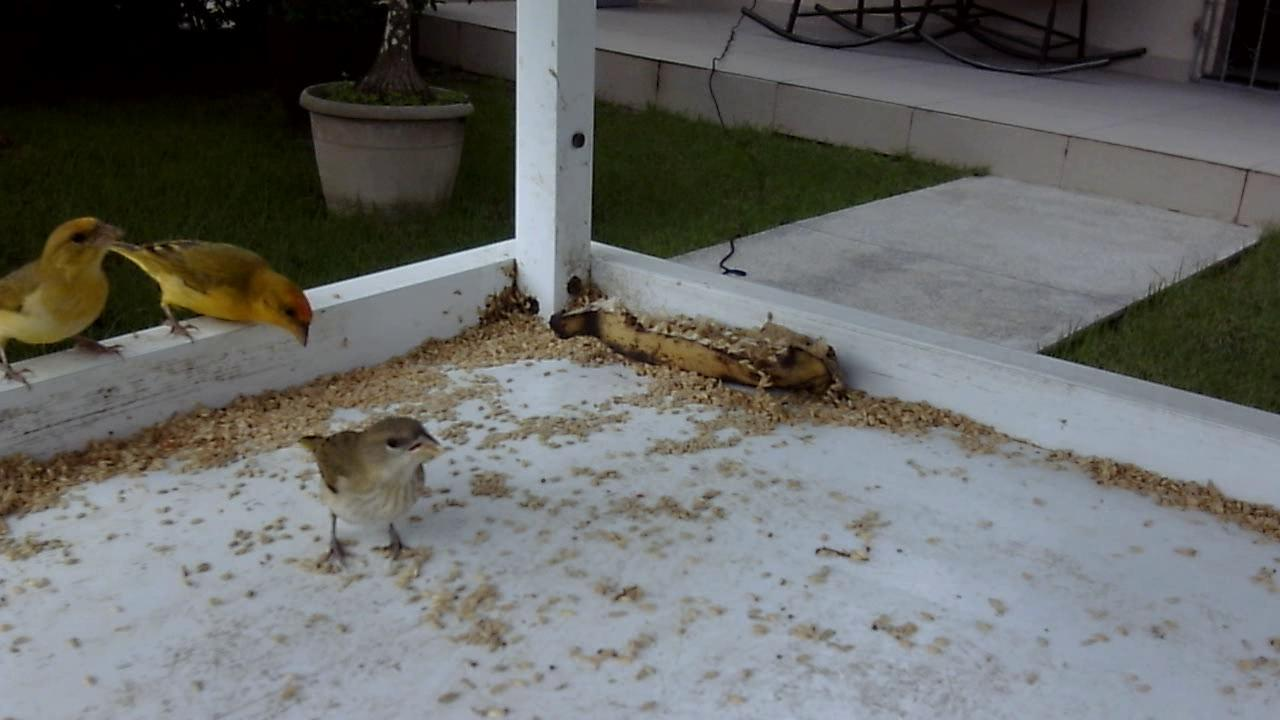canario_do_amazonas: (85, 223, 318, 365), (286, 409, 446, 578), (1, 215, 138, 400)
